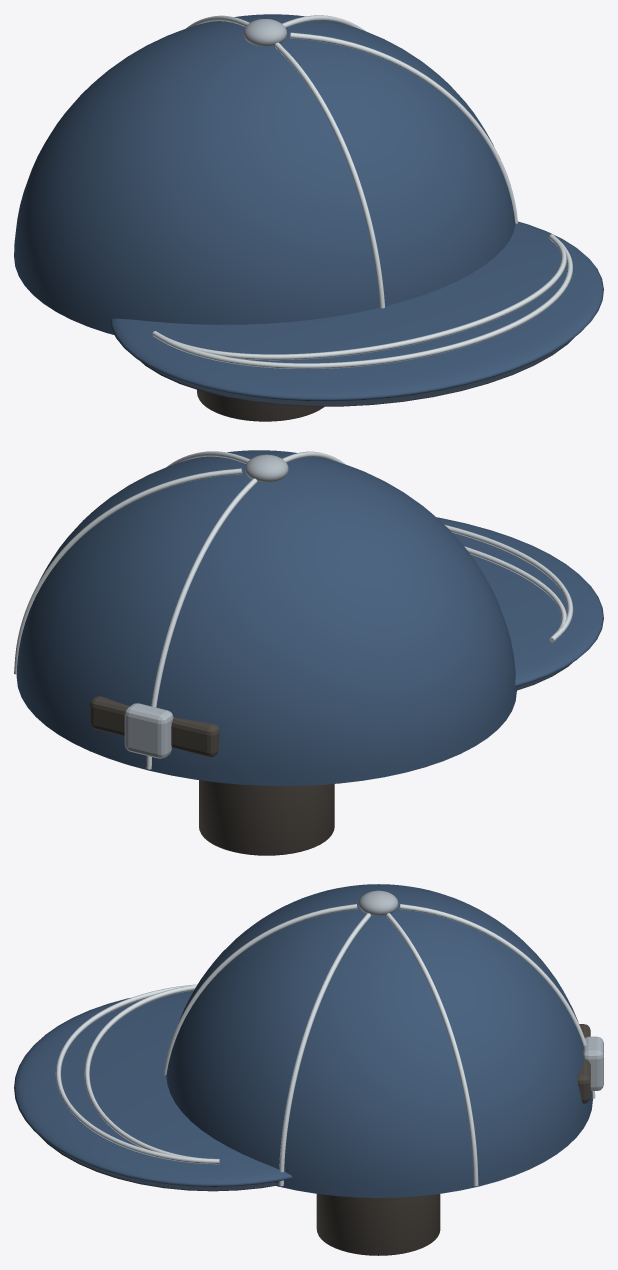
File: everyday_cap.glb
3 views of the same model, one above another, from view 1: azimuth 30°, elevation 25°; view 2: azimuth 150°, elevation 25°; view 3: azimuth 270°, elevation 25° (orthographic). The views are drawn at different scales.
Parts seen in each view (by area): view 1: Cap_Crown, Cap_Brim, Cap_BrimStitch_2, Cap_BrimStitch_1, Cap_BrimUnderside, Cap_HeadContact, Cap_PanelSeam_2, Cap_PanelSeam_1, Cap_TopButton; view 2: Cap_Crown, Cap_Brim, Cap_HeadContact, Cap_RearAdjuster, Cap_RearBuckle, Cap_PanelSeam_3, Cap_PanelSeam_4, Cap_BrimStitch_2, Cap_TopButton, Cap_BrimStitch_1; view 3: Cap_Crown, Cap_Brim, Cap_HeadContact, Cap_BrimStitch_2, Cap_PanelSeam_3, Cap_BrimStitch_1, Cap_PanelSeam_2, Cap_PanelSeam_1, Cap_PanelSeam_4, Cap_BrimUnderside, Cap_RearBuckle, Cap_TopButton (+1 smaller).
Part boxes in pixels (box(x1,y1,x2,y2)): Cap_Crown: box(14, 14, 515, 334); Cap_Brim: box(110, 221, 603, 401); Cap_BrimStitch_2: box(152, 235, 572, 368); Cap_BrimStitch_1: box(154, 234, 566, 360); Cap_BrimUnderside: box(140, 337, 574, 406); Cap_HeadContact: box(197, 390, 324, 421); Cap_PanelSeam_2: box(290, 32, 517, 223); Cap_PanelSeam_1: box(274, 42, 384, 308); Cap_TopButton: box(243, 19, 286, 46); Cap_Crown: box(16, 450, 516, 785); Cap_Brim: box(437, 517, 603, 686); Cap_HeadContact: box(199, 780, 334, 855); Cap_RearAdjuster: box(90, 696, 219, 757); Cap_RearBuckle: box(124, 703, 173, 758); Cap_PanelSeam_3: box(14, 468, 242, 674); Cap_PanelSeam_4: box(146, 478, 257, 769); Cap_BrimStitch_2: box(444, 524, 573, 642); Cap_TopButton: box(245, 454, 288, 482); Cap_BrimStitch_1: box(464, 546, 566, 642); Cap_Crown: box(166, 884, 592, 1197); Cap_Brim: box(14, 990, 292, 1186); Cap_HeadContact: box(316, 1194, 440, 1255); Cap_BrimStitch_2: box(55, 984, 219, 1164); Cap_PanelSeam_3: box(386, 913, 478, 1186); Cap_BrimStitch_1: box(84, 985, 219, 1159); Cap_PanelSeam_2: box(278, 913, 370, 1186); Cap_PanelSeam_1: box(163, 904, 357, 1075); Cap_PanelSeam_4: box(399, 904, 595, 1098); Cap_BrimUnderside: box(39, 1135, 278, 1191); Cap_RearBuckle: box(583, 1036, 603, 1090); Cap_TopButton: box(358, 890, 398, 915).
Size of the model in its own units: 0.21 by 0.168 by 0.267.
